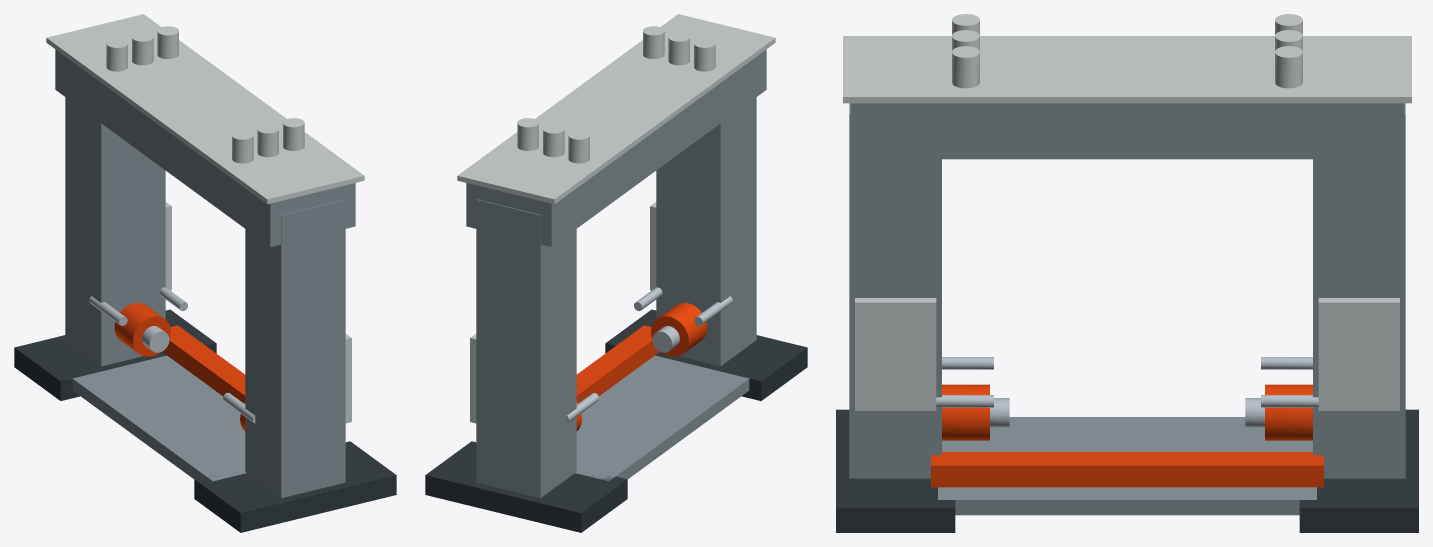
The model's file is portal_press.dae.
3 renders of one model, left to right at view 1: azimuth 30°, elevation 25°; view 2: azimuth 150°, elevation 25°; view 3: azimuth 270°, elevation 25°, orthographic. The views are drawn at different scales.
Parts seen in each view (by area): view 1: portal_press; view 2: portal_press; view 3: portal_press.
Boxes of the visible parts, x1,y1,x2,y2 form: portal_press: (14, 14, 396, 532); portal_press: (425, 14, 807, 532); portal_press: (836, 14, 1418, 532).
Size of the model in its own units: 1.65 by 4.15 by 3.52.
